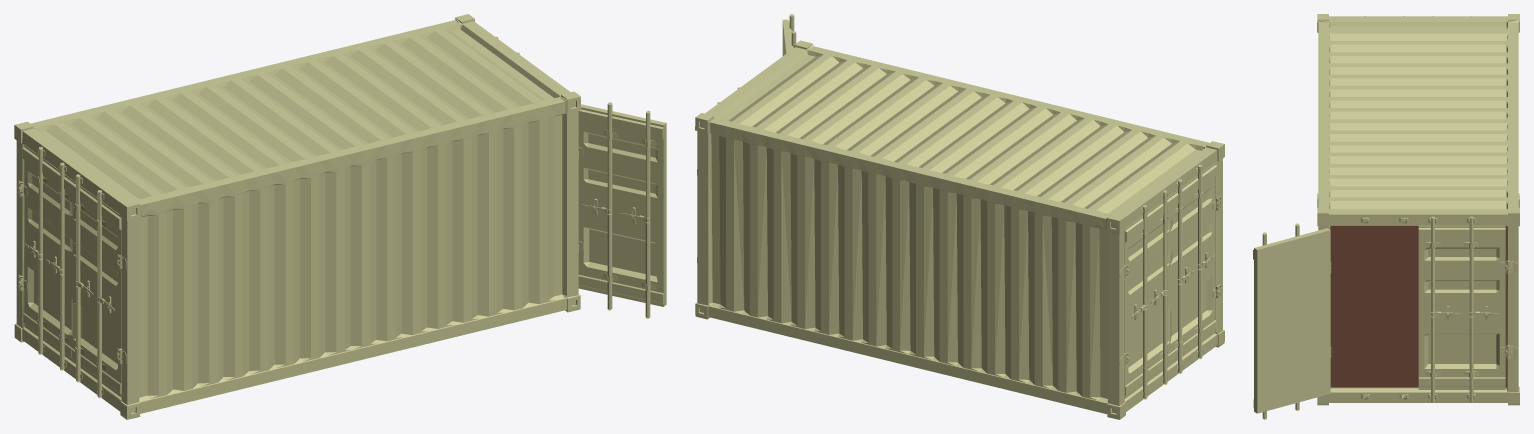
File: colorized.glb
3 renders of one model, left to right at view 1: azimuth 30°, elevation 25°; view 2: azimuth 150°, elevation 25°; view 3: azimuth 270°, elevation 25°, orthographic. The views are drawn at different scales.
Visible parts, largest first — view 1: shipping-container; view 2: shipping-container; view 3: shipping-container.
Boxes of the visible parts, x1,y1,x2,y2 form: shipping-container: (14,14,666,419); shipping-container: (695,14,1224,419); shipping-container: (1253,14,1519,419).
Bounding box in the file's own units: 2 × 0.7996 × 1.01.
